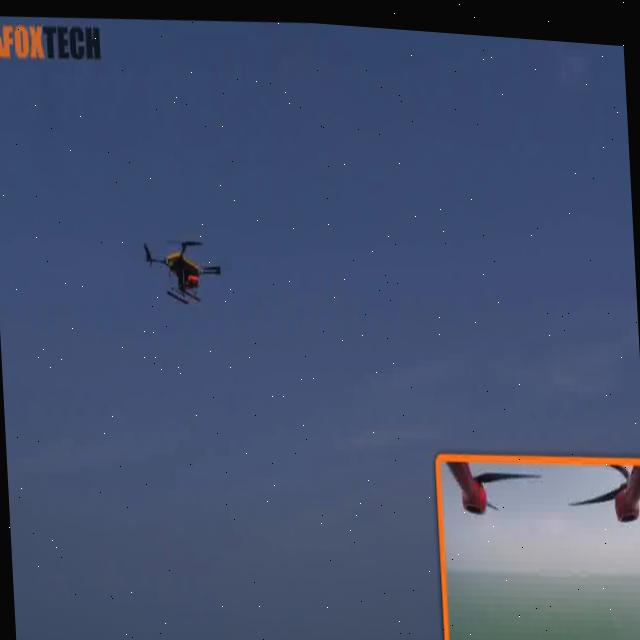drone: (136, 213, 225, 313)
